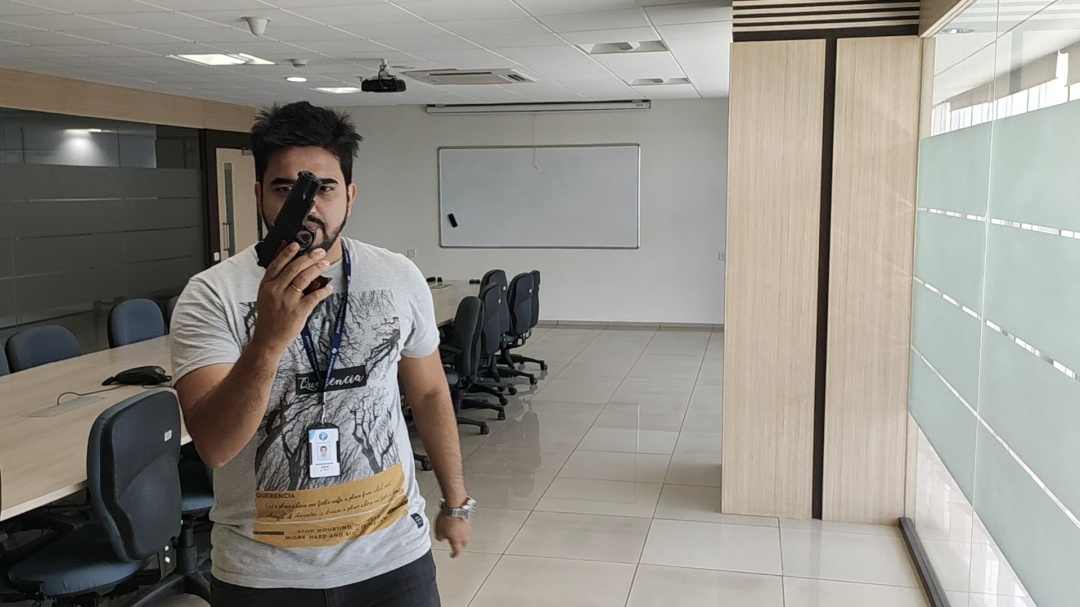gun: (251, 163, 330, 288)
